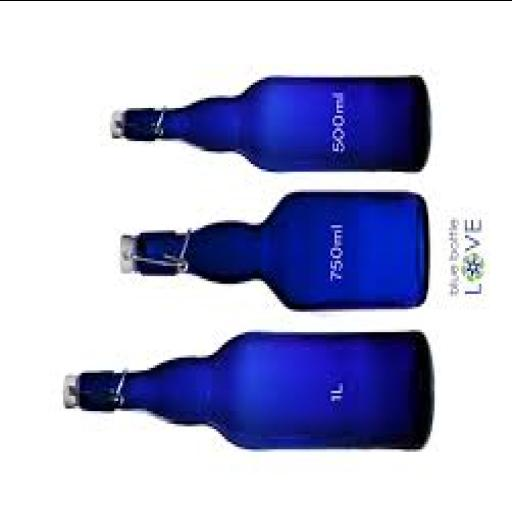blue-bottle: (67, 331, 432, 451), (122, 194, 426, 311), (110, 76, 428, 171)
